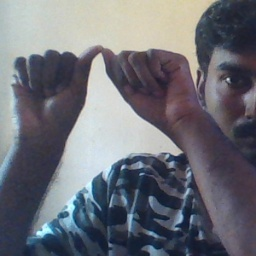A: (11, 41, 190, 134)
